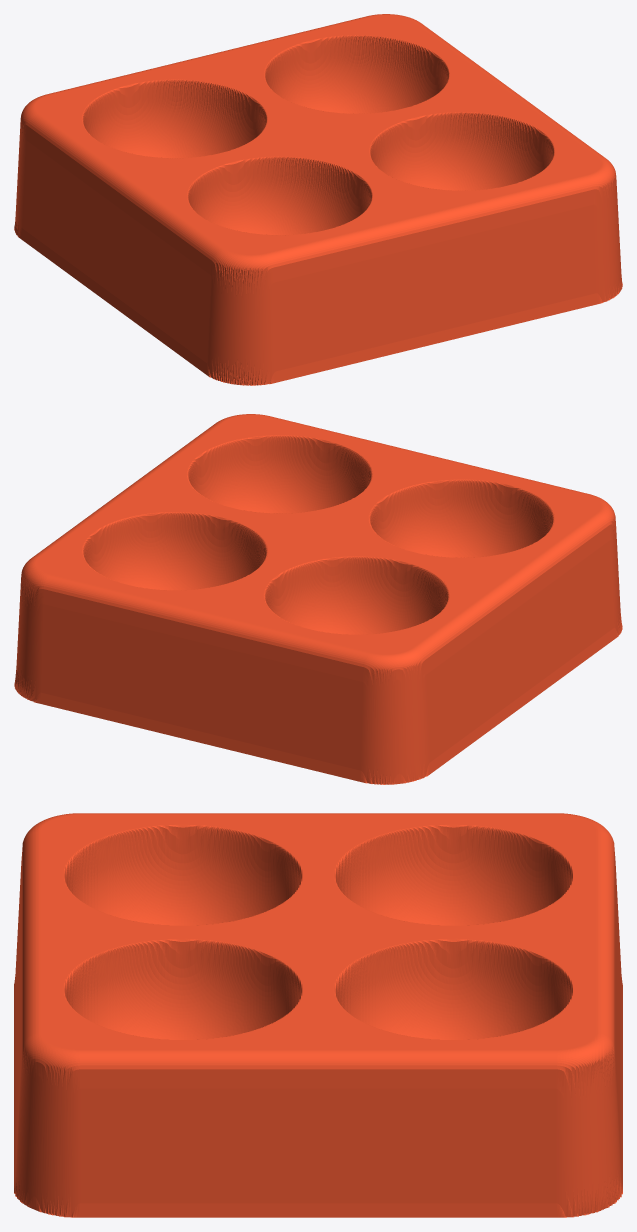
Rendered from mold.glb.
3 renders of one model, top to bottom at view 1: azimuth 30°, elevation 25°; view 2: azimuth 150°, elevation 25°; view 3: azimuth 270°, elevation 25°, orthographic. The views are drawn at different scales.
Visible parts, largest first — view 1: geometry_0; view 2: geometry_0; view 3: geometry_0.
Part boxes in pixels (x1=…): geometry_0: x1=14, y1=14, x2=622, y2=385; geometry_0: x1=14, y1=414, x2=622, y2=784; geometry_0: x1=14, y1=813, x2=622, y2=1217.
Bounding box in the file's own units: 0.0828 × 0.0235 × 0.0828.
